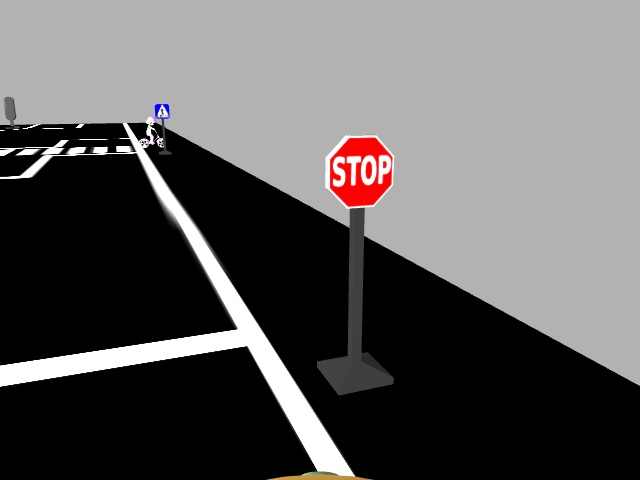Stop: (321, 133, 397, 209)
